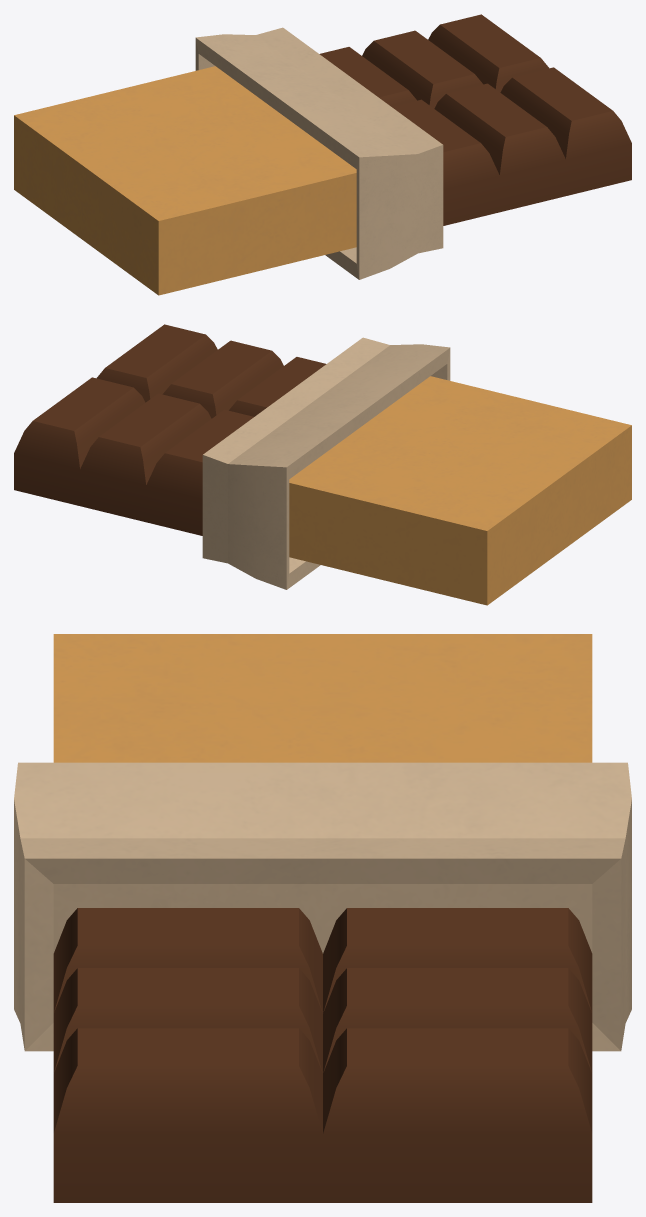
The model's file is ChocolateBar.fbx.
3 renders of one model, top to bottom at view 1: azimuth 30°, elevation 25°; view 2: azimuth 150°, elevation 25°; view 3: azimuth 270°, elevation 25°, orthographic. The views are drawn at different scales.
Parts seen in each view (by area): view 1: ChocolateBar1; view 2: ChocolateBar1; view 3: ChocolateBar1.
Boxes of the visible parts, <box> form: ChocolateBar1: <box>14,14,631,295</box>; ChocolateBar1: <box>14,324,631,605</box>; ChocolateBar1: <box>14,634,631,1202</box>.
Bounding box in the file's own units: 0.2582 × 0.064 × 0.1568.
